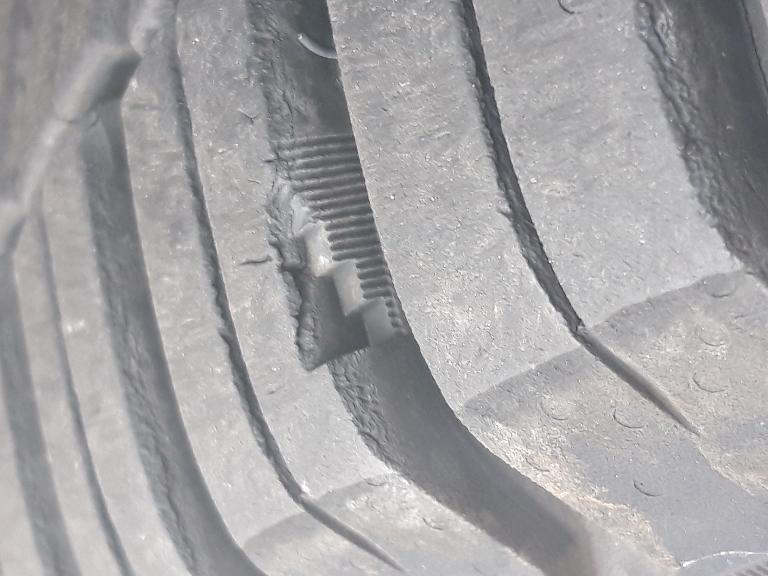temoin:80: (243, 125, 425, 387)
